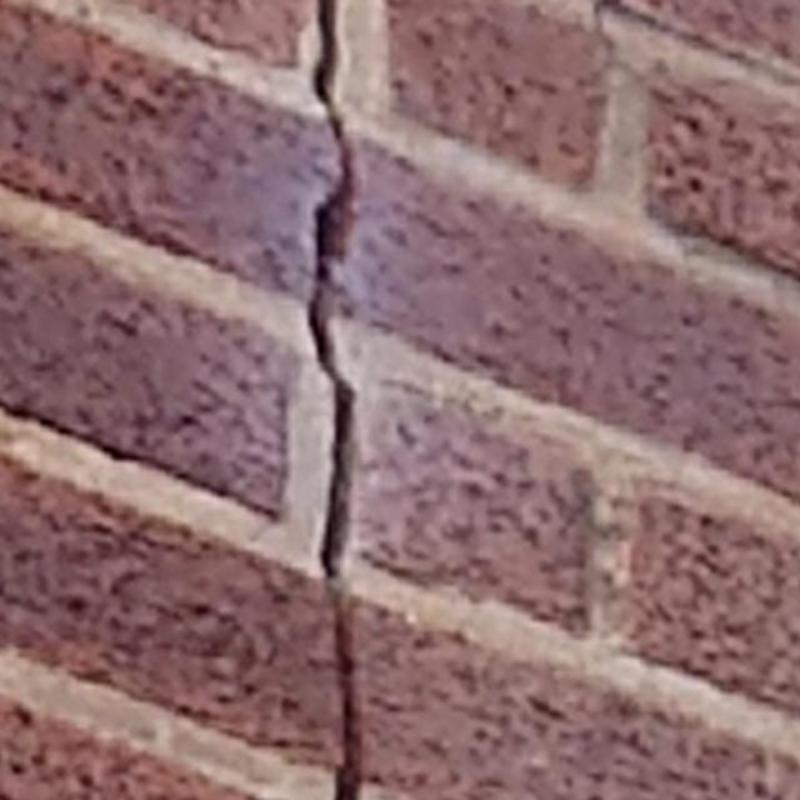pothole: (308, 0, 362, 799)
